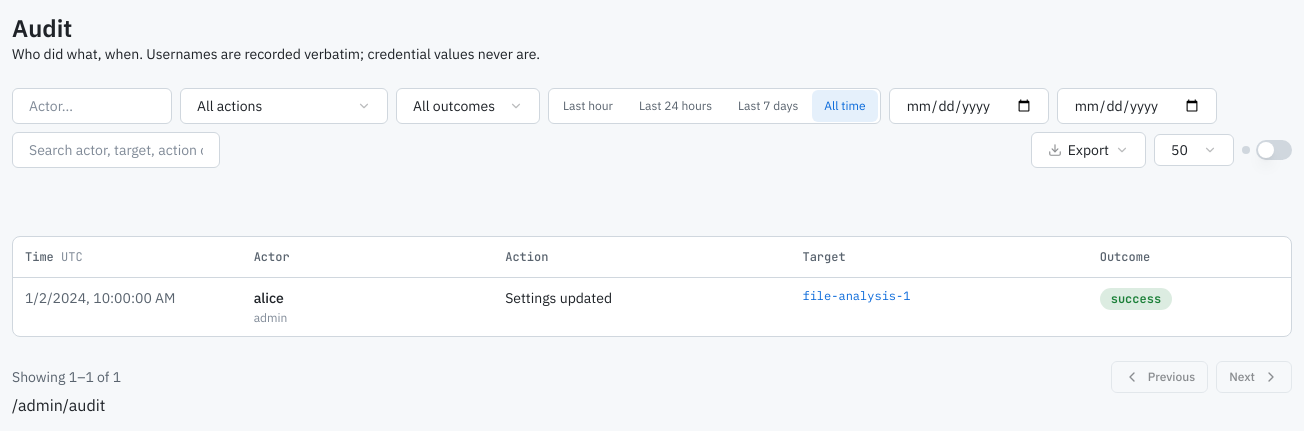
Test: AdminAuditPage › links a job named by target_id through the resolved job id
Hover over the link "file-analysis-1": (856, 295) [802,288,910,302]
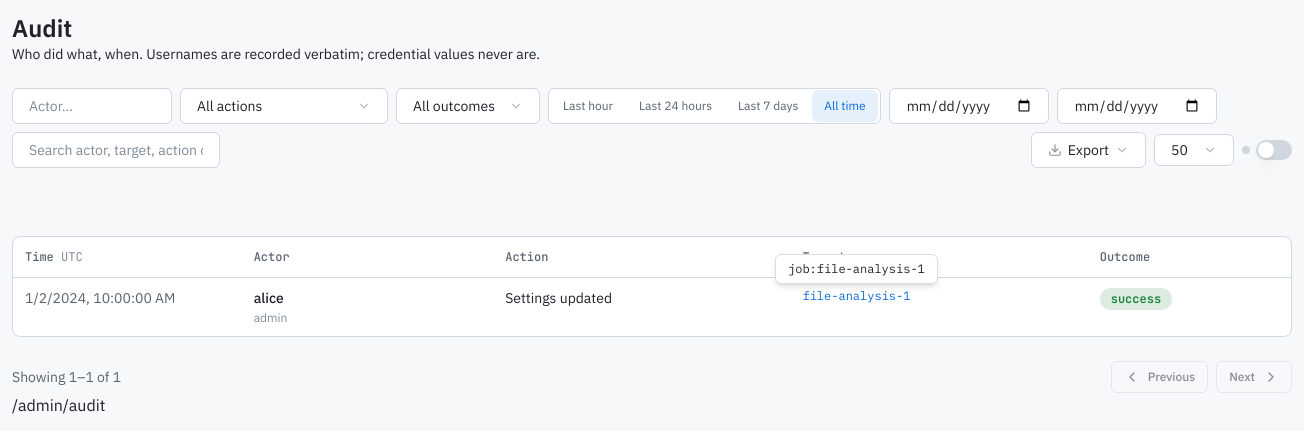
Expected: the tooltip reads "job:file-analysis-1", [788,261,925,276]
